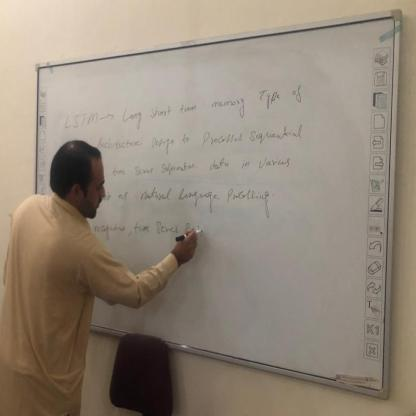Handwritten text: (57, 75, 312, 135), (85, 113, 318, 160), (102, 145, 304, 183), (103, 180, 280, 215), (88, 208, 190, 256)
Lecturer: (8, 126, 132, 416)
Whiteboard: (28, 2, 401, 399)
